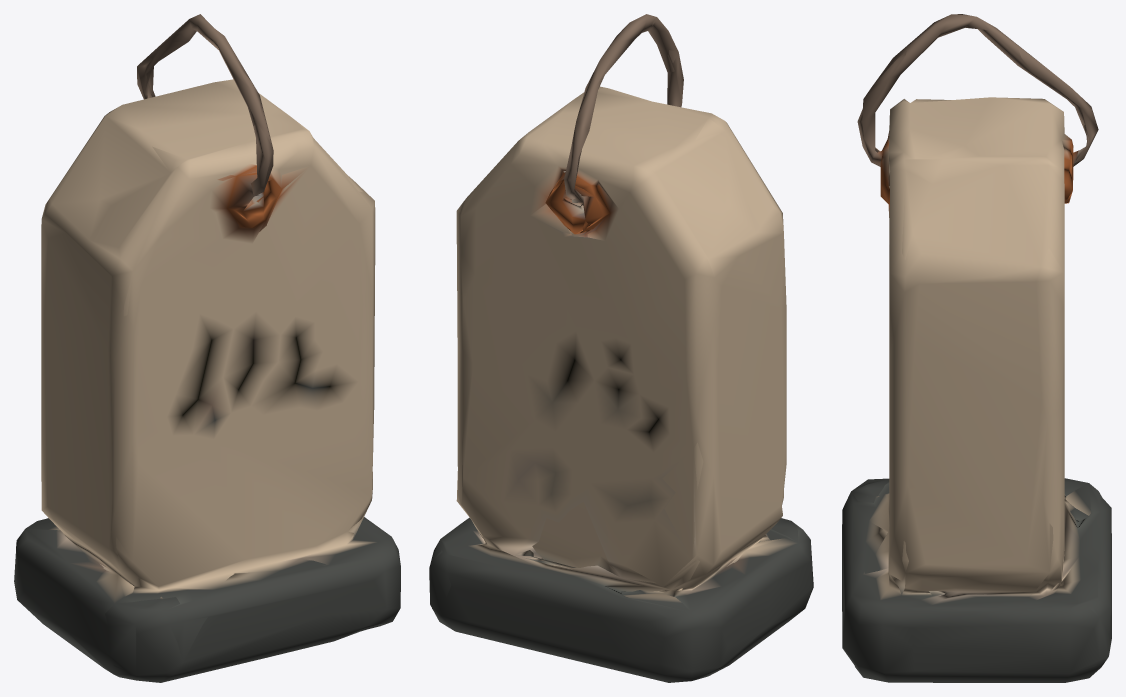
Rendered from gen3d-price-tag-lod0.glb.
3 views of the same model, side by side, from view 1: azimuth 30°, elevation 25°; view 2: azimuth 150°, elevation 25°; view 3: azimuth 270°, elevation 25° (orthographic).
Visible parts, largest first — view 1: part_0; view 2: part_0; view 3: part_0.
Boxes of the visible parts, left/top/right/bottom form: part_0: left=14, top=14, right=400, bottom=682; part_0: left=429, top=14, right=813, bottom=682; part_0: left=842, top=14, right=1111, bottom=682.
Bounding box in the file's own units: 0.5086 × 0.9975 × 0.4089.
